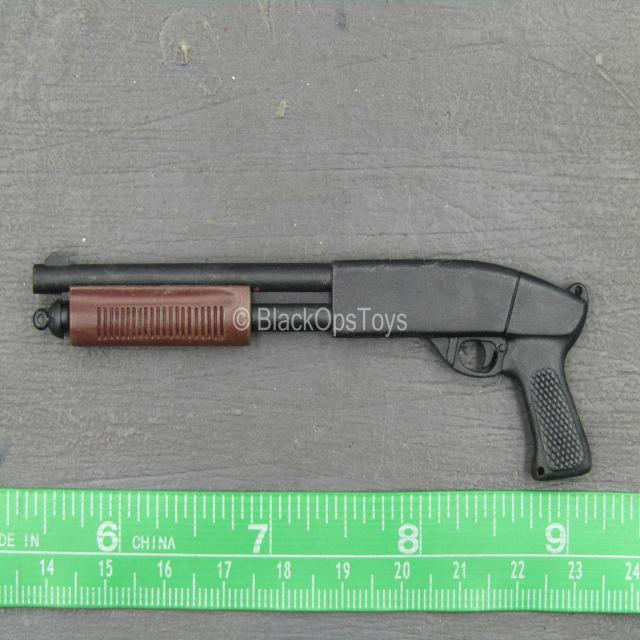ShotGun: (32, 259, 593, 483)
